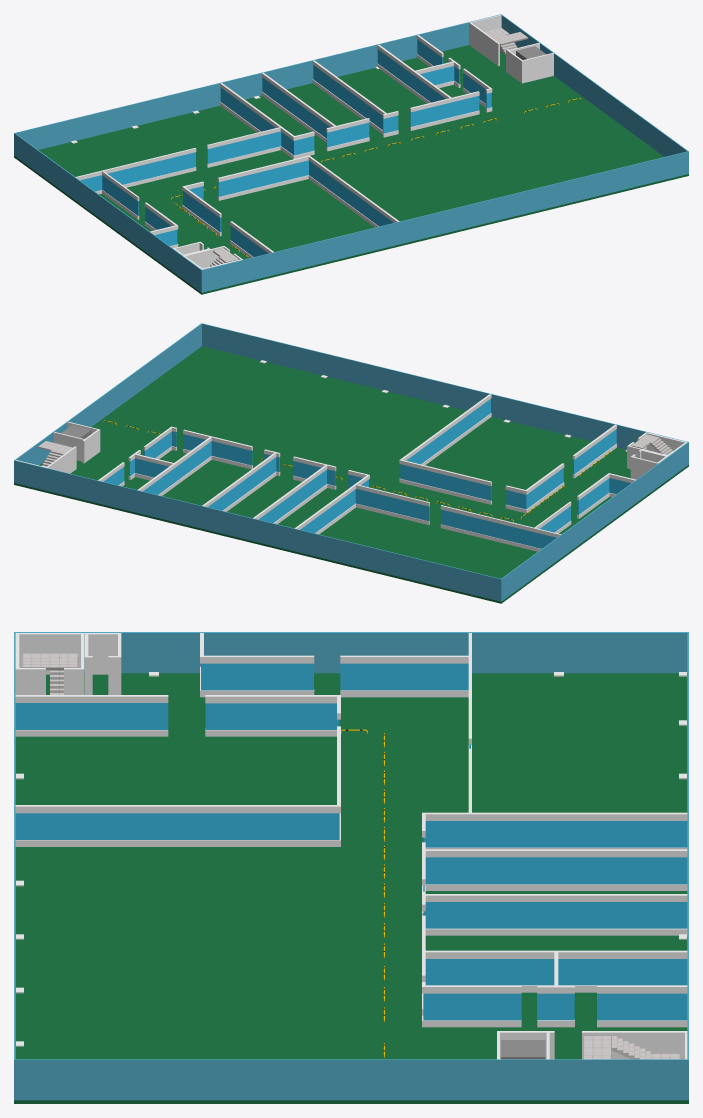
The picture shows the model from 3 angles, top to bottom: view 1: azimuth 30°, elevation 25°; view 2: azimuth 150°, elevation 25°; view 3: azimuth 270°, elevation 25°; orthographic projection. The views are drawn at different scales.
Parts seen in each view (by area): view 1: dimian002, qiang002, 组001, 对象010, 对象005, 组002, 对象004, 对象001, 对象009, 对象007, 对象008, 对象002 (+2 smaller); view 2: dimian002, qiang002, 组001, 对象010, 对象005, 对象004, 组002, 对象009, 对象008, 对象001, 对象002, 对象007; view 3: dimian002, qiang002, 组001, 对象010, 组002, 对象008, 对象009, 对象007, 对象002, 对象003, reobj_loutiC_013, reobj_loutiC_014 (+2 smaller).
Part boxes in pixels (<box>): dimian002: <box>14,45,688,294</box>; qiang002: <box>14,14,688,292</box>; 组001: <box>144,44,479,248</box>; 对象010: <box>217,155,399,227</box>; 对象005: <box>75,148,196,194</box>; 组002: <box>173,15,501,269</box>; 对象004: <box>207,127,281,167</box>; 对象001: <box>506,43,553,83</box>; 对象009: <box>182,181,221,236</box>; 对象007: <box>102,171,139,219</box>; 对象008: <box>230,221,273,257</box>; 对象002: <box>463,68,492,112</box>; dimian002: <box>14,346,688,603</box>; qiang002: <box>14,323,688,601</box>; 组001: <box>128,429,635,534</box>; 对象010: <box>399,394,491,504</box>; 对象005: <box>440,505,561,551</box>; 对象004: <box>355,484,429,524</box>; 组002: <box>16,432,687,479</box>; 对象009: <box>505,463,564,513</box>; 对象008: <box>572,424,616,478</box>; 对象001: <box>53,421,100,463</box>; 对象002: <box>143,426,176,459</box>; 对象007: <box>534,501,571,533</box>; dimian002: <box>14,673,688,1103</box>; qiang002: <box>14,632,688,1100</box>; 组001: <box>200,633,687,1027</box>; 对象010: <box>15,726,340,846</box>; 组002: <box>15,633,687,1059</box>; 对象008: <box>15,695,168,736</box>; 对象009: <box>205,695,340,736</box>; 对象007: <box>340,655,468,697</box>; 对象002: <box>422,982,521,1027</box>; 对象003: <box>597,985,687,1027</box>; reobj_loutiC_013: <box>583,1036,679,1059</box>; reobj_loutiC_014: <box>22,653,77,694</box>.
Bounding box in the file's own units: 2362 × 113 × 1575.
Materials: 8 (7 with a texture image).
